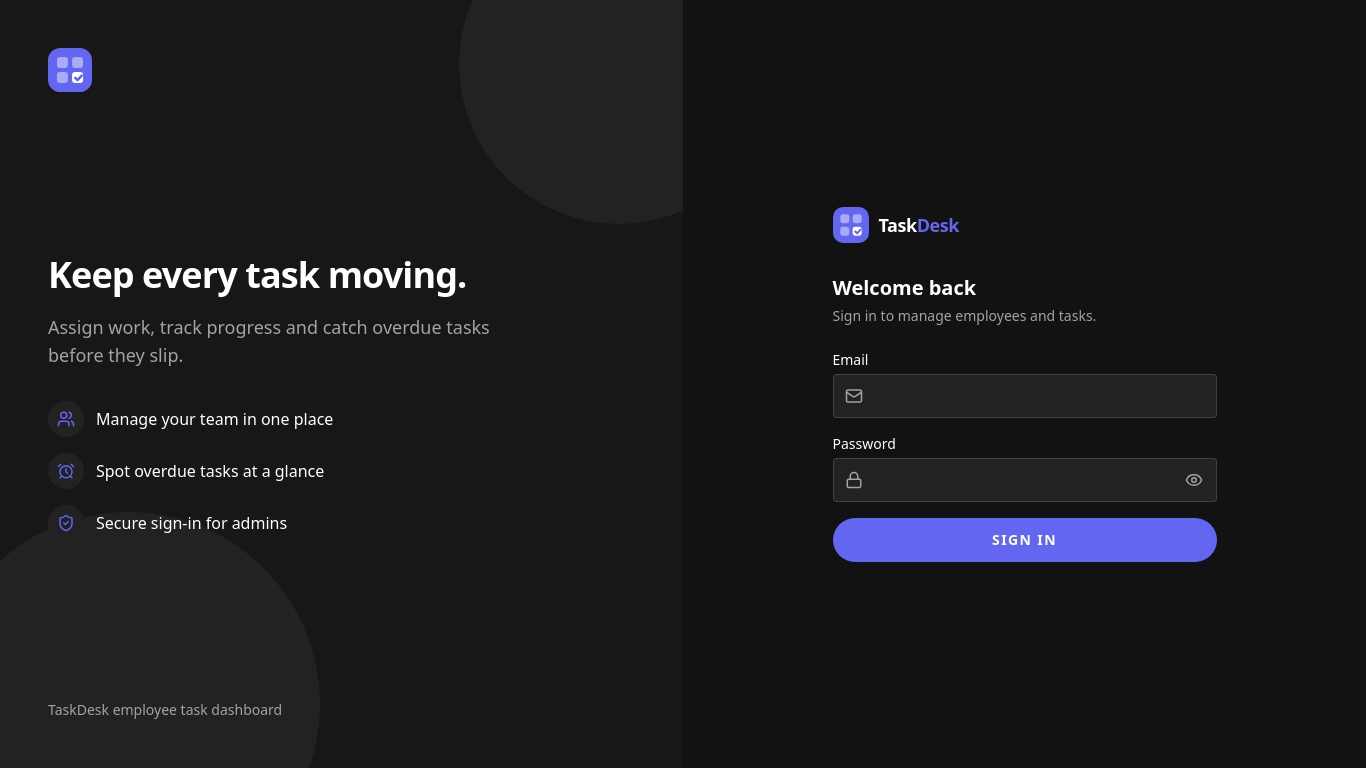
Scenario: LoginPage › tells the user when the server cannot be reached
In the field labelled "Email": (1024, 396) [832,374,1216,418], type "admin@example.com"
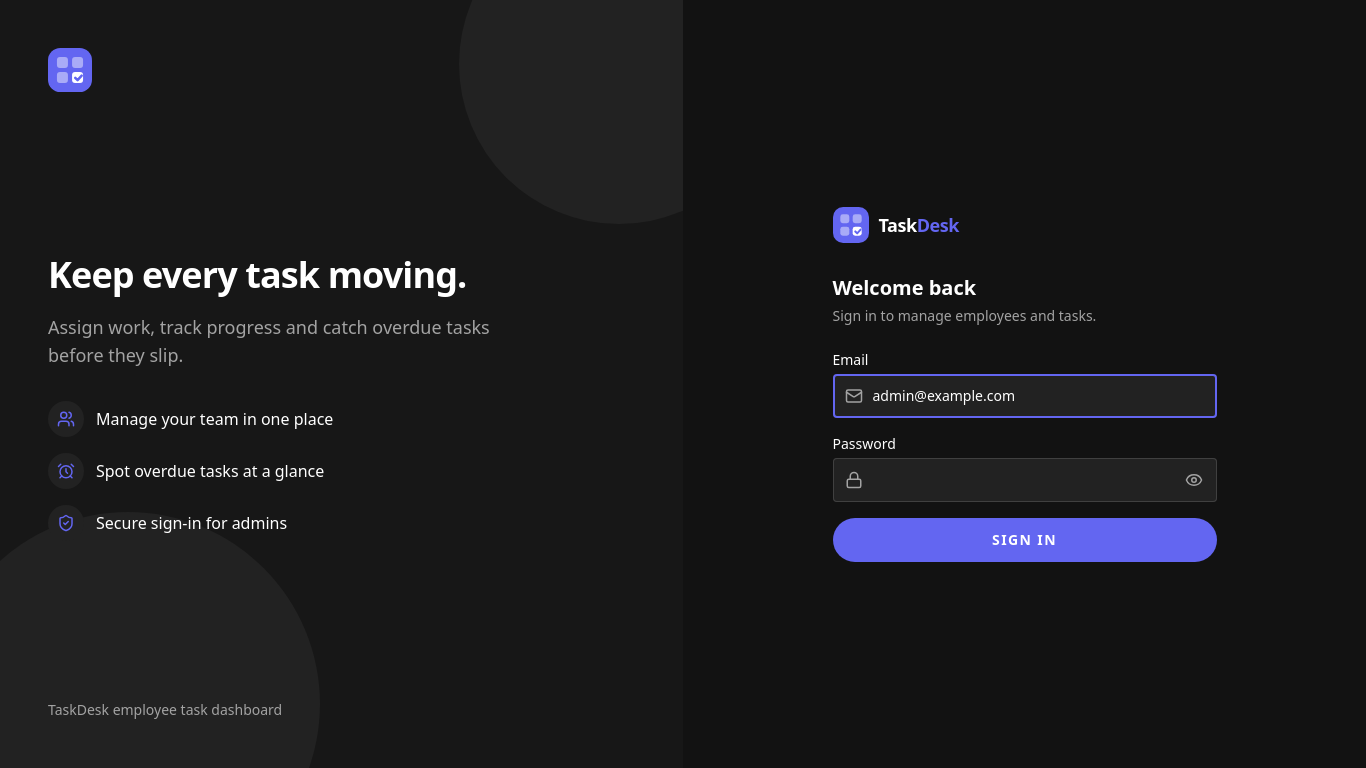
In the password field labelled "Password": (1024, 480) [832,458,1216,502], type "Admin@12345"
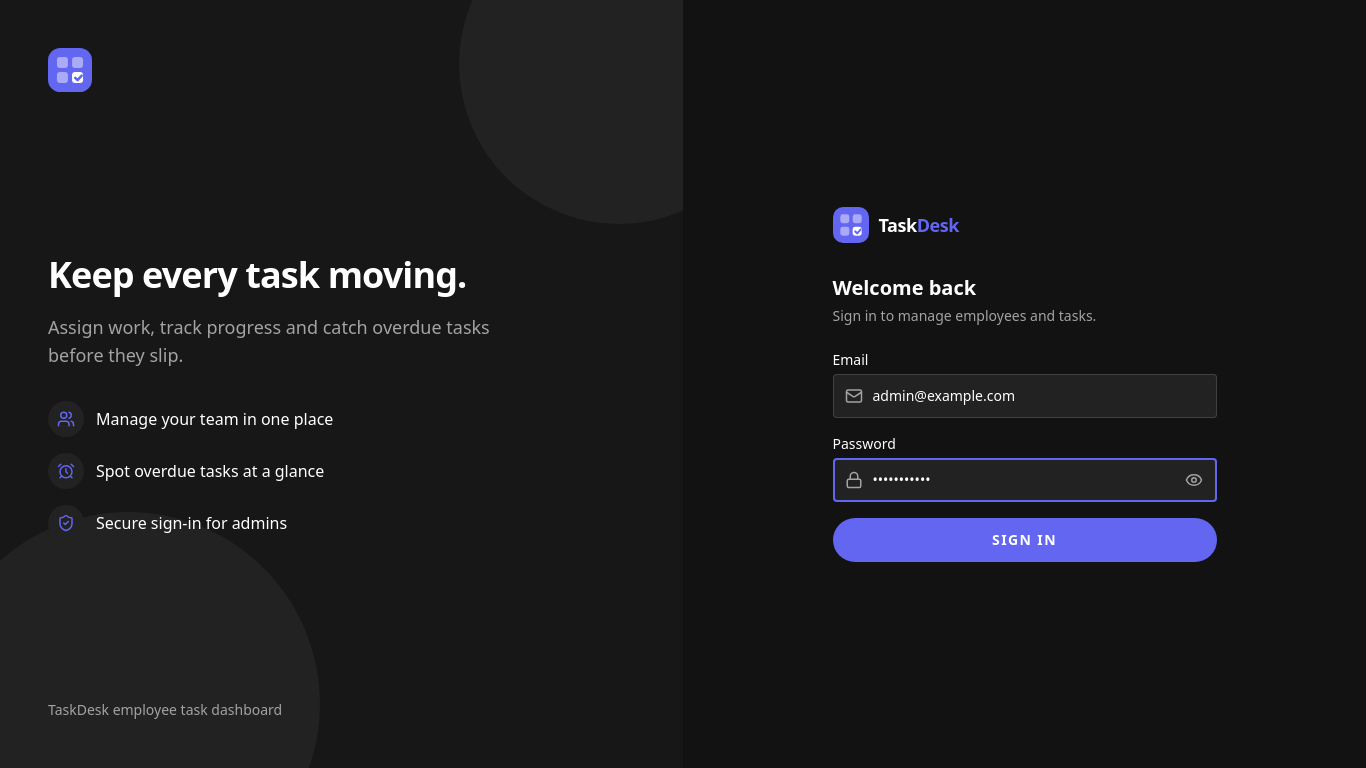
Click the button "Sign in": (1024, 540) [832,518,1216,562]
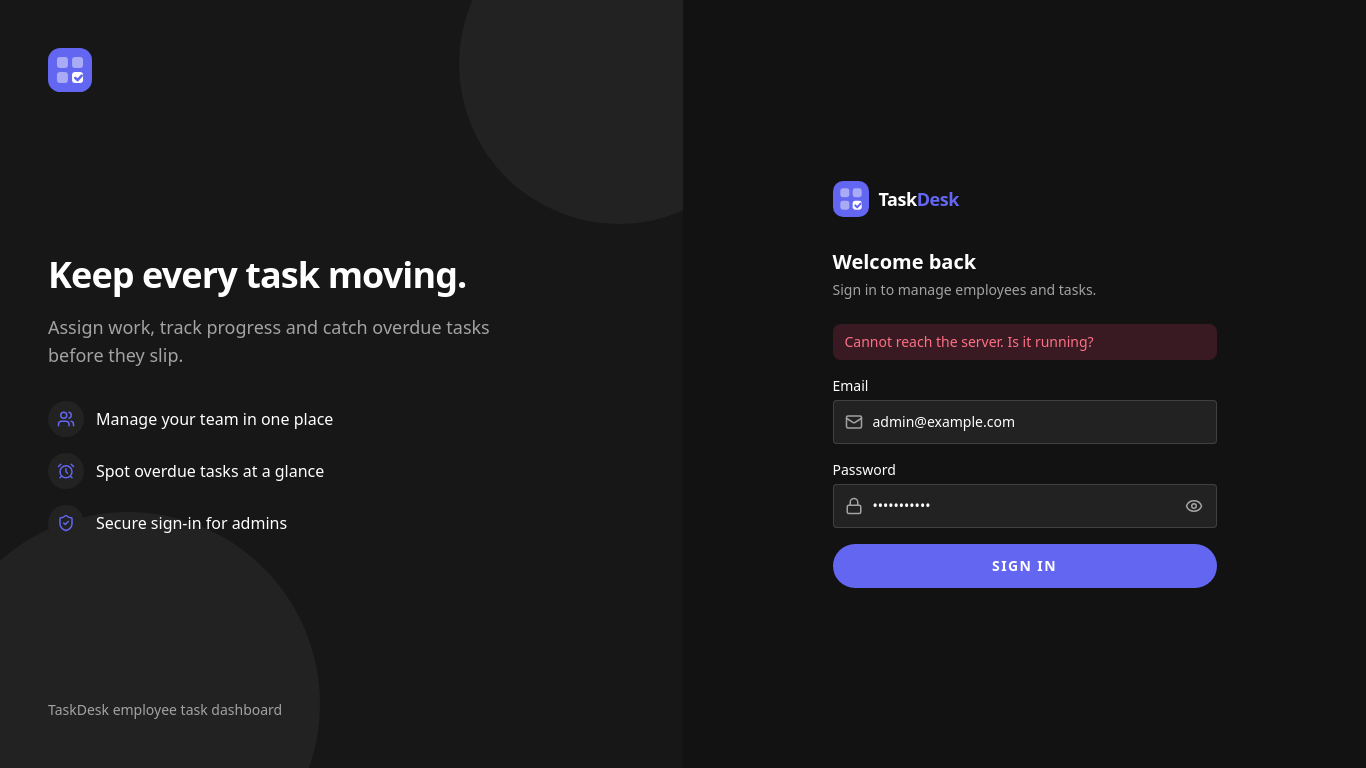
Check: the message shows "Cannot reach the server", box [844,332,1094,350]
